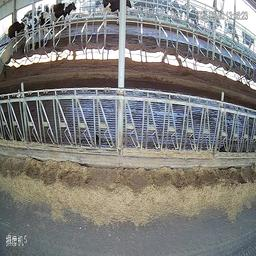cow: (99, 0, 132, 28), (51, 1, 77, 30), (37, 13, 53, 40), (7, 20, 26, 41), (28, 12, 35, 36), (44, 2, 51, 22), (37, 2, 43, 19)
